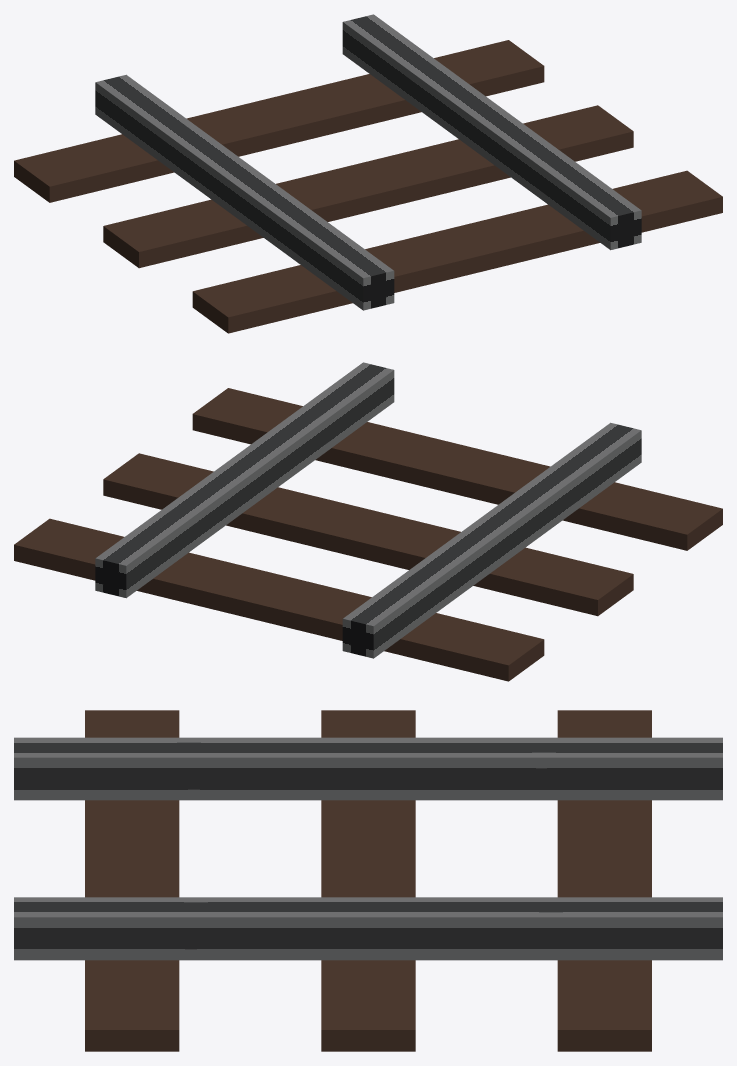
The model's file is RailRoad.gltf.
3 renders of one model, top to bottom at view 1: azimuth 30°, elevation 25°; view 2: azimuth 150°, elevation 25°; view 3: azimuth 270°, elevation 25°, orthographic. The views are drawn at different scales.
Visible parts, largest first — view 1: cuboid (×5); view 2: cuboid (×5); view 3: cuboid (×5).
Part boxes in pixels (box(x1,y1,x2,y2)): cuboid (×5): box(14, 14, 722, 333); cuboid (×5): box(14, 362, 722, 681); cuboid (×5): box(14, 710, 722, 1051).
Size of the model in its own units: 1 by 0.0938 by 0.9375.
Materials: 2 (2 with a texture image).
